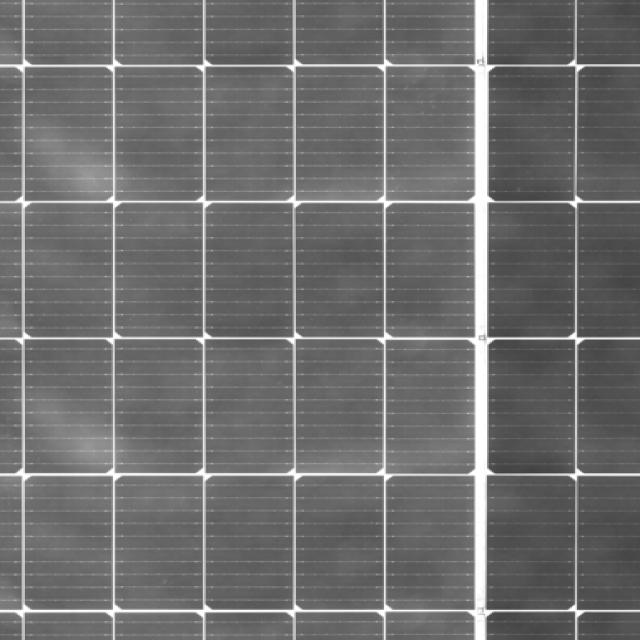CORRECT: (212, 0, 640, 640), (0, 0, 342, 640)
